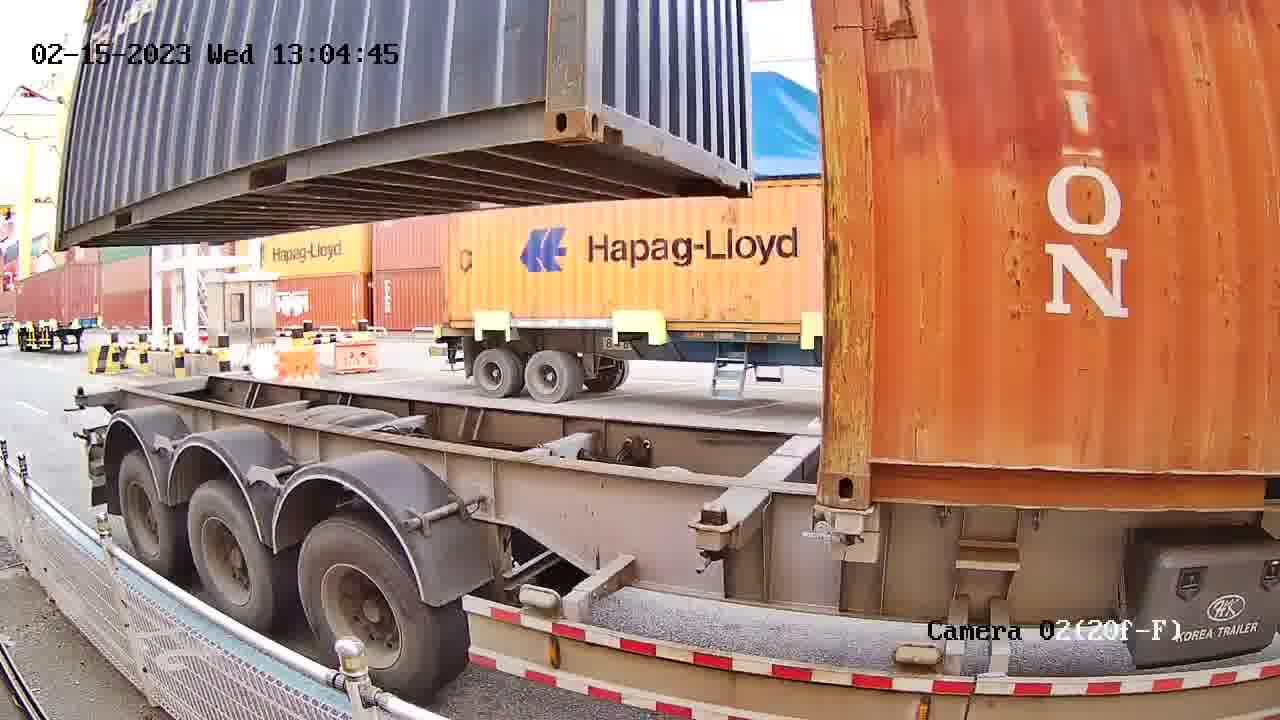Cone: (815, 506, 869, 547), (692, 501, 730, 558)
Hole_L: (818, 426, 910, 513), (581, 51, 646, 147)
Hole_R: (505, 53, 583, 144), (716, 136, 757, 199)
Tire: (302, 522, 431, 695), (186, 485, 275, 623), (119, 460, 170, 574)
